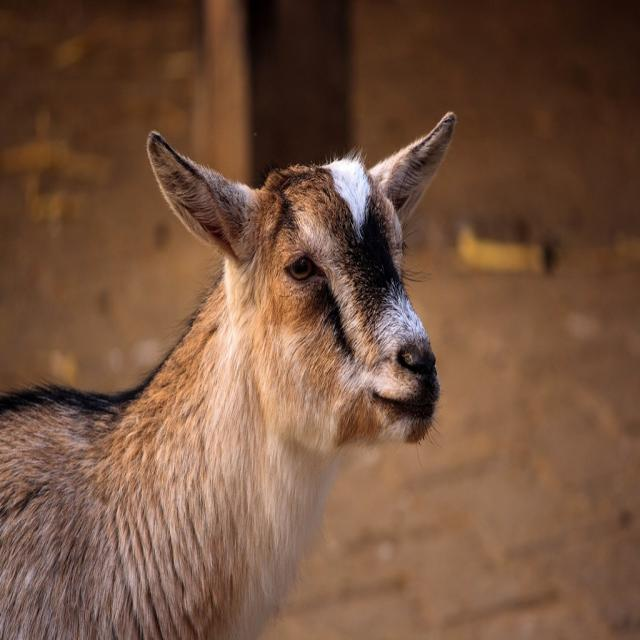Goat: (0, 88, 462, 620)
